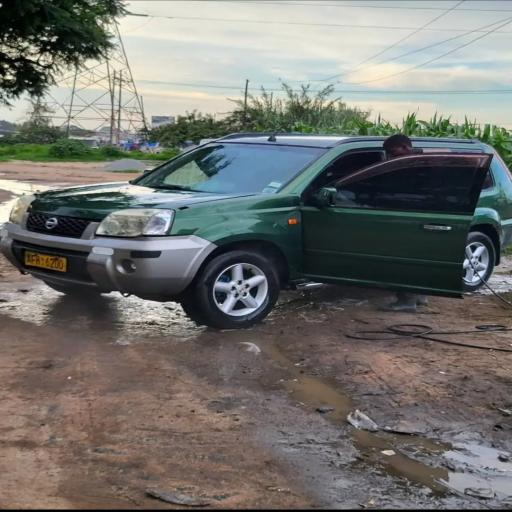number-plates: (23, 251, 68, 273)
